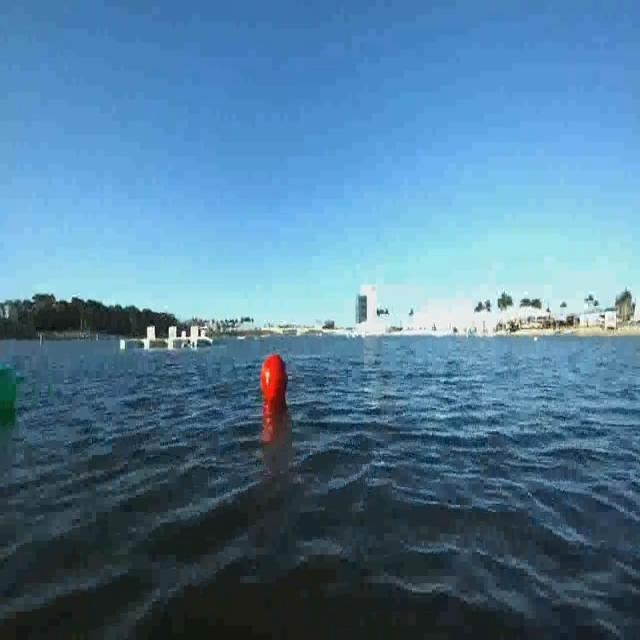green-buoy: (0, 364, 17, 406)
red-buoy: (262, 353, 290, 404)
